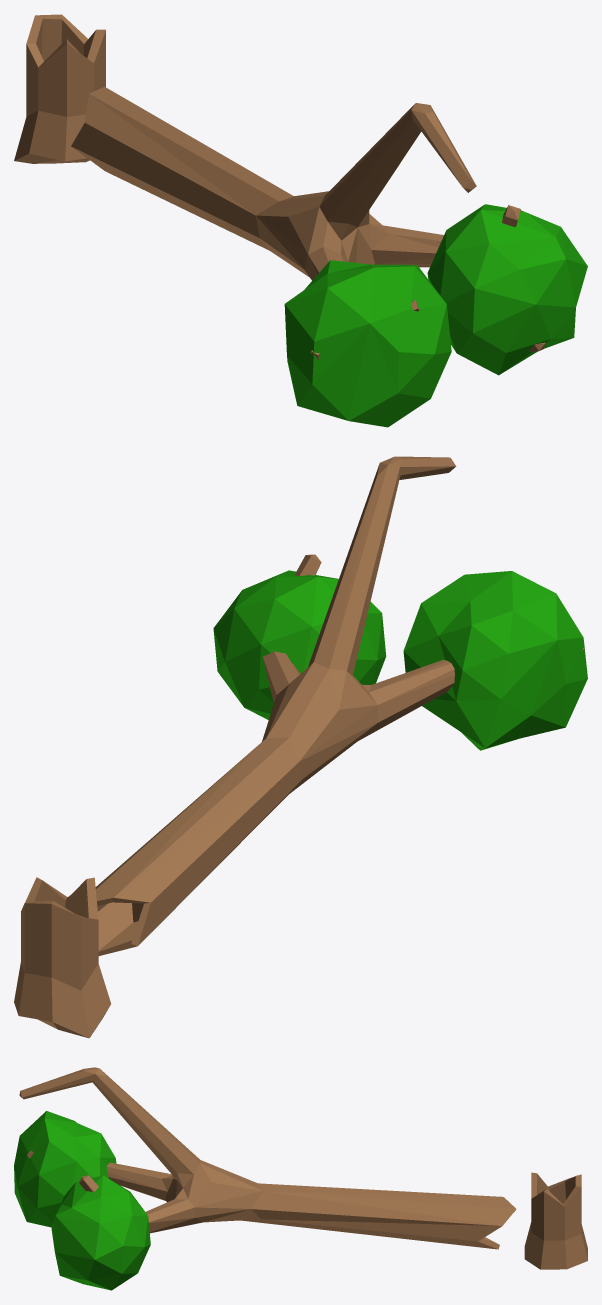
File: Tree_5 Broken.fbx
3 renders of one model, top to bottom at view 1: azimuth 30°, elevation 25°; view 2: azimuth 150°, elevation 25°; view 3: azimuth 270°, elevation 25°, orthographic. The views are drawn at different scales.
Parts seen in each view (by area): view 1: Tree5Broken_mesh; view 2: Tree5Broken_mesh; view 3: Tree5Broken_mesh.
Boxes of the visible parts, x1,y1,x2,y2 form: Tree5Broken_mesh: (14, 14, 587, 427); Tree5Broken_mesh: (14, 456, 587, 1038); Tree5Broken_mesh: (14, 1067, 587, 1290).
Size of the model in its own units: 227 by 205 by 520.
